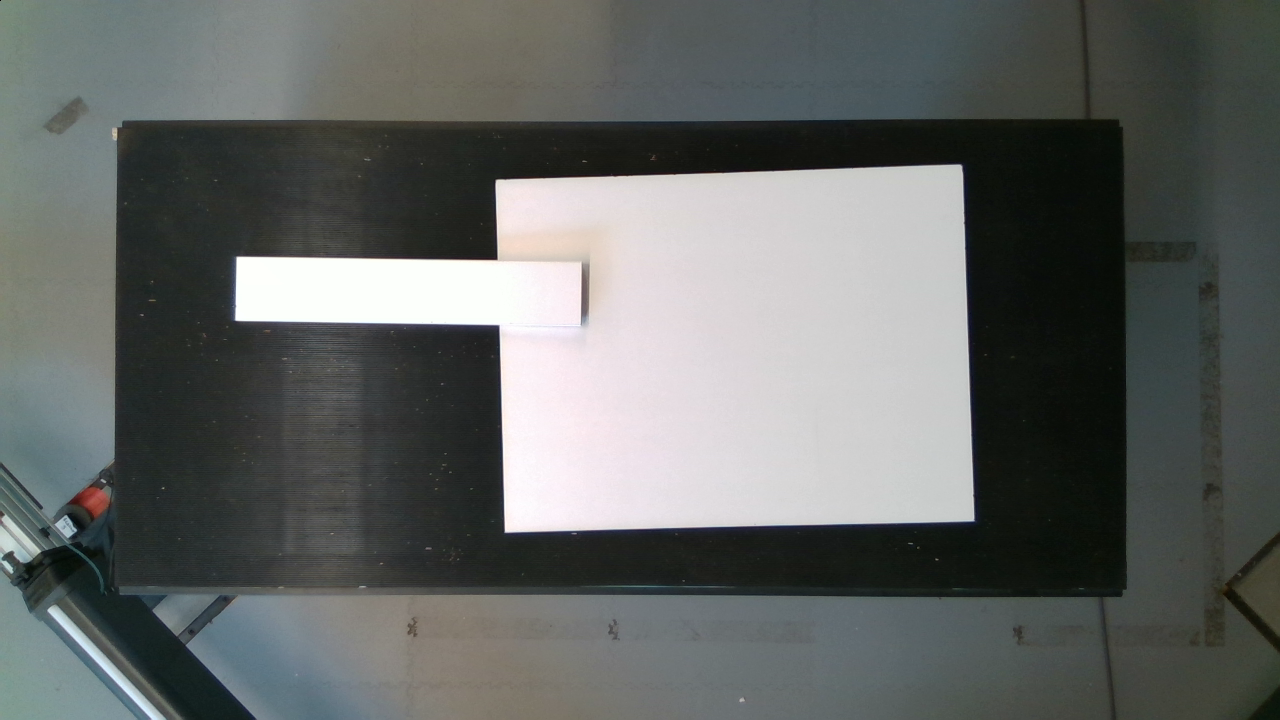part1: (221, 246, 600, 342)
part2: (488, 149, 996, 545)
